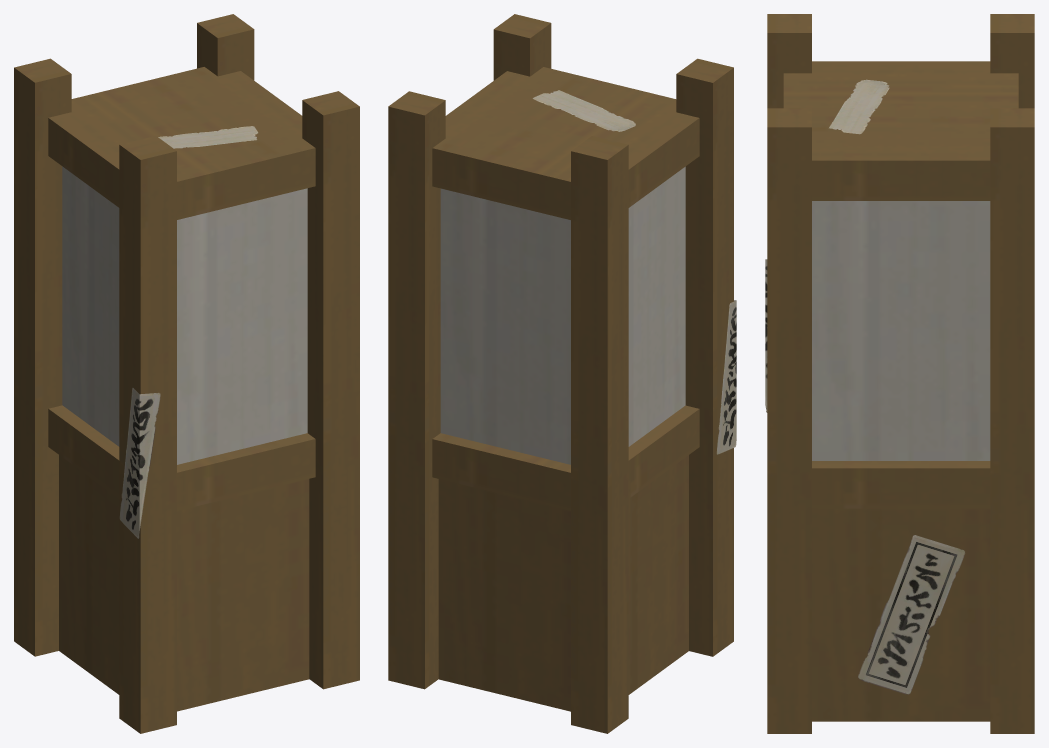
The model's file is SM_ENV_LKNVLD_PaperLantern_B.FBX.
3 views of the same model, side by side, from view 1: azimuth 30°, elevation 25°; view 2: azimuth 150°, elevation 25°; view 3: azimuth 270°, elevation 25° (orthographic). The views are drawn at different scales.
Visible parts, largest first — view 1: SM_ENV_LKNVLD_PaperLantern_B; view 2: SM_ENV_LKNVLD_PaperLantern_B; view 3: SM_ENV_LKNVLD_PaperLantern_B.
Boxes of the visible parts, left/top/right/bottom form: SM_ENV_LKNVLD_PaperLantern_B: left=14, top=14, right=359, bottom=733; SM_ENV_LKNVLD_PaperLantern_B: left=388, top=14, right=736, bottom=733; SM_ENV_LKNVLD_PaperLantern_B: left=765, top=14, right=1034, bottom=733.
Size of the model in its own units: 39.7 by 98.44 by 39.59.
